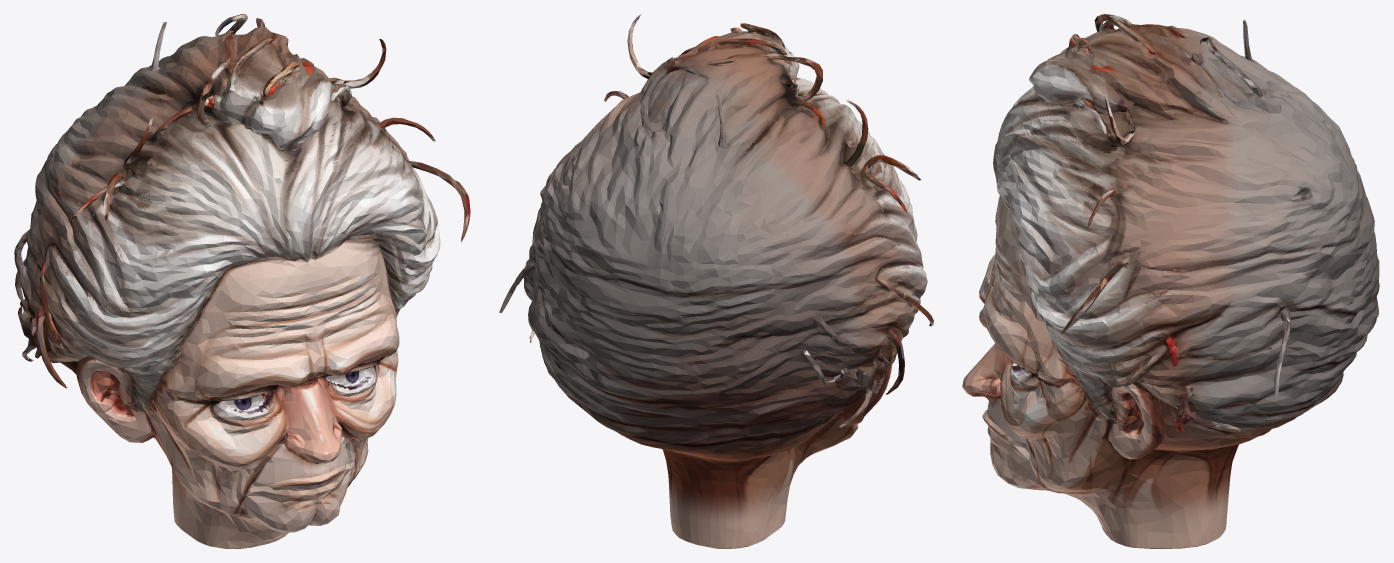
File: side_umebaa_repaired_atlas.glb
The picture shows the model from 3 angles, left to right: view 1: azimuth 30°, elevation 25°; view 2: azimuth 150°, elevation 25°; view 3: azimuth 270°, elevation 25°; orthographic projection. The views are drawn at different scales.
Parts seen in each view (by area): view 1: temp_mesh.ply; view 2: temp_mesh.ply; view 3: temp_mesh.ply.
Part boxes in pixels (x1,y1,x2,y2): temp_mesh.ply: (14,14,470,548); temp_mesh.ply: (499,14,933,548); temp_mesh.ply: (962,14,1379,548).
Bounding box in the file's own units: 1.66 × 1.97 × 1.49.
Materials: 1 (1 with a texture image).
